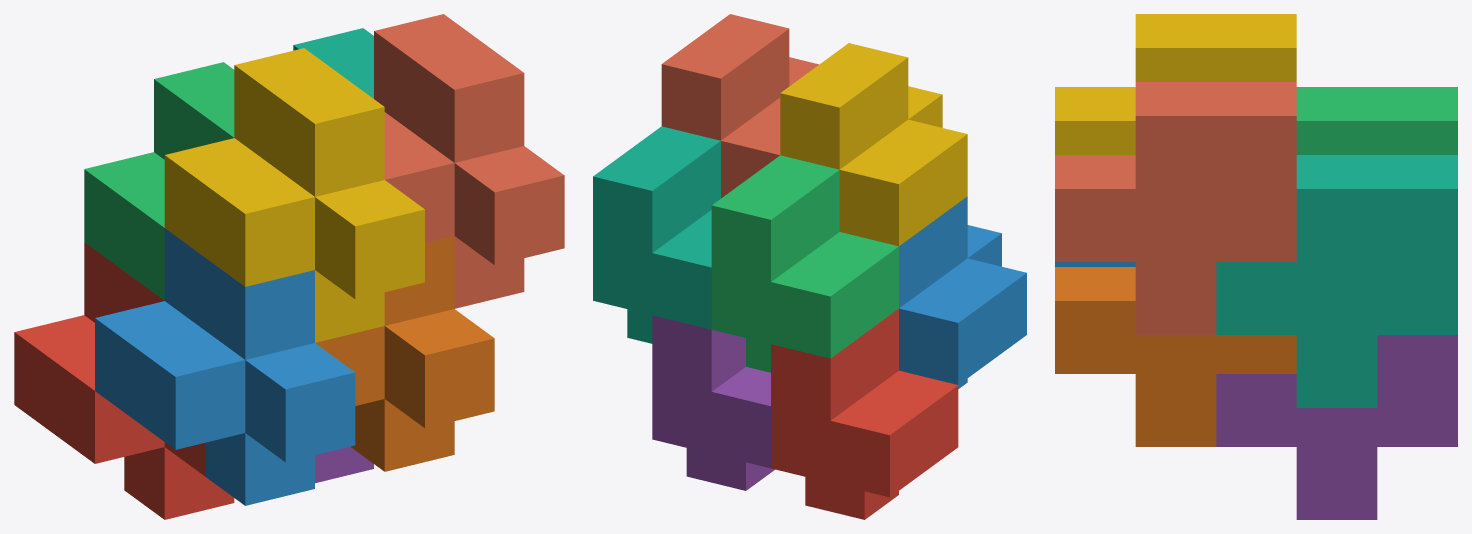
Rendered from tiling.obj.
3 renders of one model, left to right at view 1: azimuth 30°, elevation 25°; view 2: azimuth 150°, elevation 25°; view 3: azimuth 270°, elevation 25°, orthographic. The views are drawn at different scales.
Parts seen in each view (by area): view 1: copy_1_domain_4, copy_1_domain_2, copy_1_domain_8, copy_1_domain_6, copy_1_domain_1, copy_1_domain_3, copy_1_domain_7, copy_1_domain_5; view 2: copy_1_domain_3, copy_1_domain_1, copy_1_domain_4, copy_1_domain_7, copy_1_domain_2, copy_1_domain_5, copy_1_domain_8; view 3: copy_1_domain_8, copy_1_domain_7, copy_1_domain_5, copy_1_domain_6, copy_1_domain_4, copy_1_domain_3.
Boxes of the visible parts, x1,y1,x2,y2 form: copy_1_domain_4: (164, 48, 424, 342); copy_1_domain_2: (95, 228, 355, 505); copy_1_domain_8: (374, 14, 564, 308); copy_1_domain_6: (315, 236, 494, 471); copy_1_domain_1: (14, 242, 234, 519); copy_1_domain_3: (84, 62, 234, 300); copy_1_domain_7: (293, 28, 373, 98); copy_1_domain_5: (315, 447, 373, 483); copy_1_domain_3: (711, 155, 898, 372); copy_1_domain_1: (771, 309, 958, 519); copy_1_domain_4: (780, 43, 967, 246); copy_1_domain_7: (593, 126, 720, 343); copy_1_domain_2: (899, 196, 1026, 388); copy_1_domain_5: (652, 315, 774, 490); copy_1_domain_8: (661, 14, 818, 198); copy_1_domain_8: (1055, 82, 1296, 334); copy_1_domain_7: (1216, 155, 1457, 407); copy_1_domain_5: (1216, 335, 1457, 519); copy_1_domain_6: (1055, 267, 1296, 446); copy_1_domain_4: (1055, 14, 1296, 154); copy_1_domain_3: (1296, 87, 1457, 154).
Size of the model in its own units: 5 by 6 by 5.
